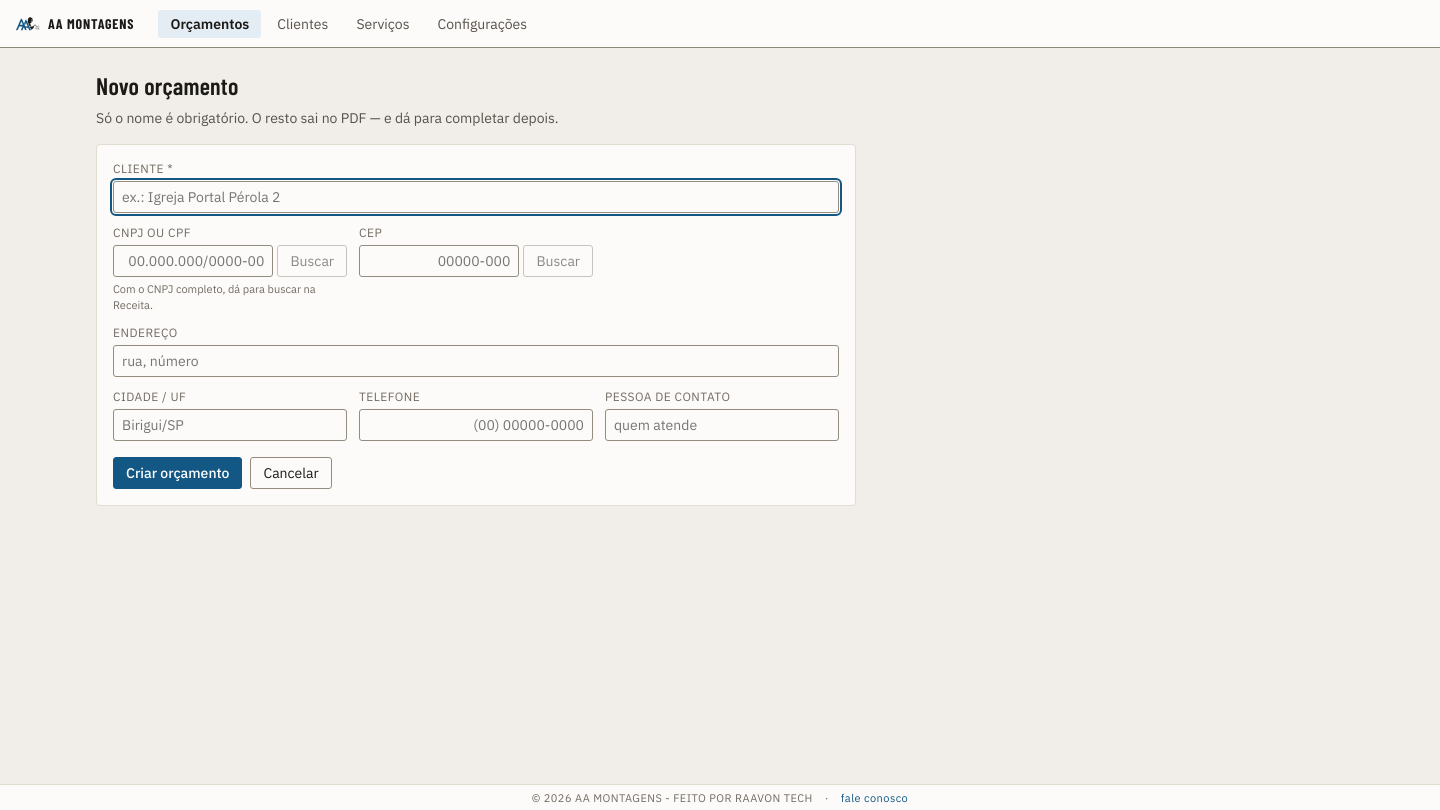
Test: máscara e validação › acusa dígito verificador errado
Check: the heading "Novo orçamento" is shown, box [96,71,238,100]
Type "Fulano" into the field labelled "Cliente *".
click(476, 197); type("Fulano")  # box [113,181,839,213]
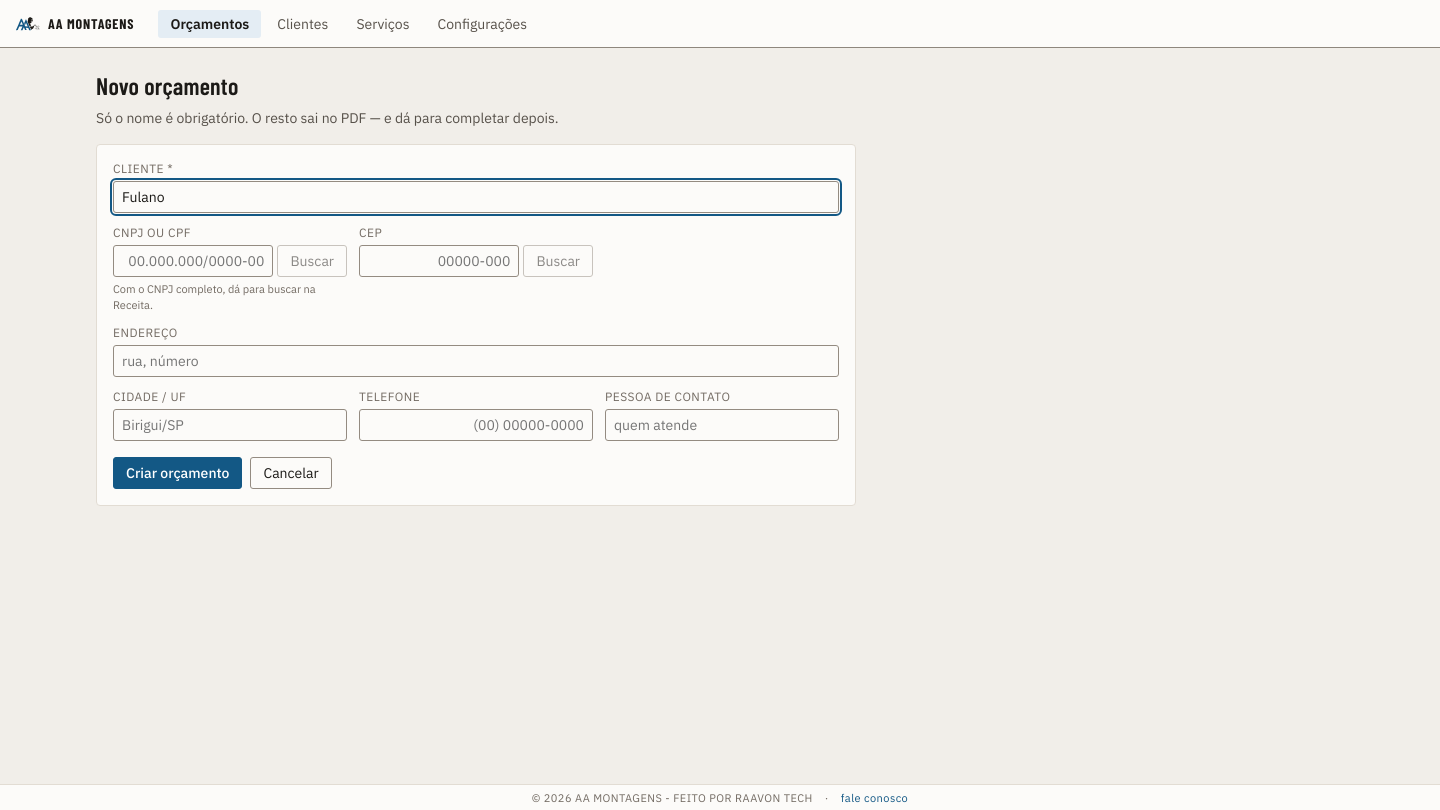
Type "11144477736" into the field labelled "CNPJ ou CPF".
click(193, 261); type("11144477736")  # box [113,245,273,277]
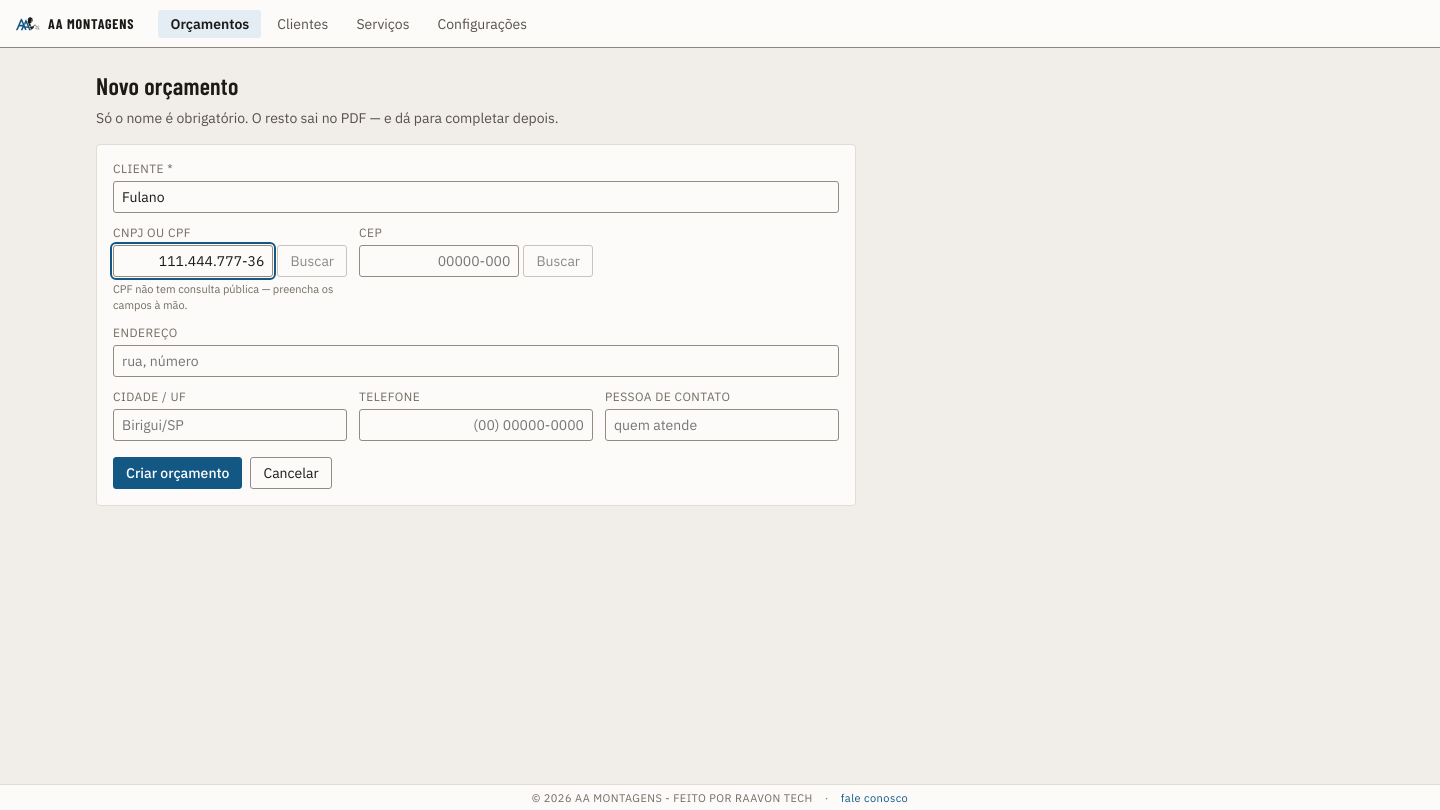
Click the button "Criar orçamento".
click(178, 473)  # box [113,457,242,489]
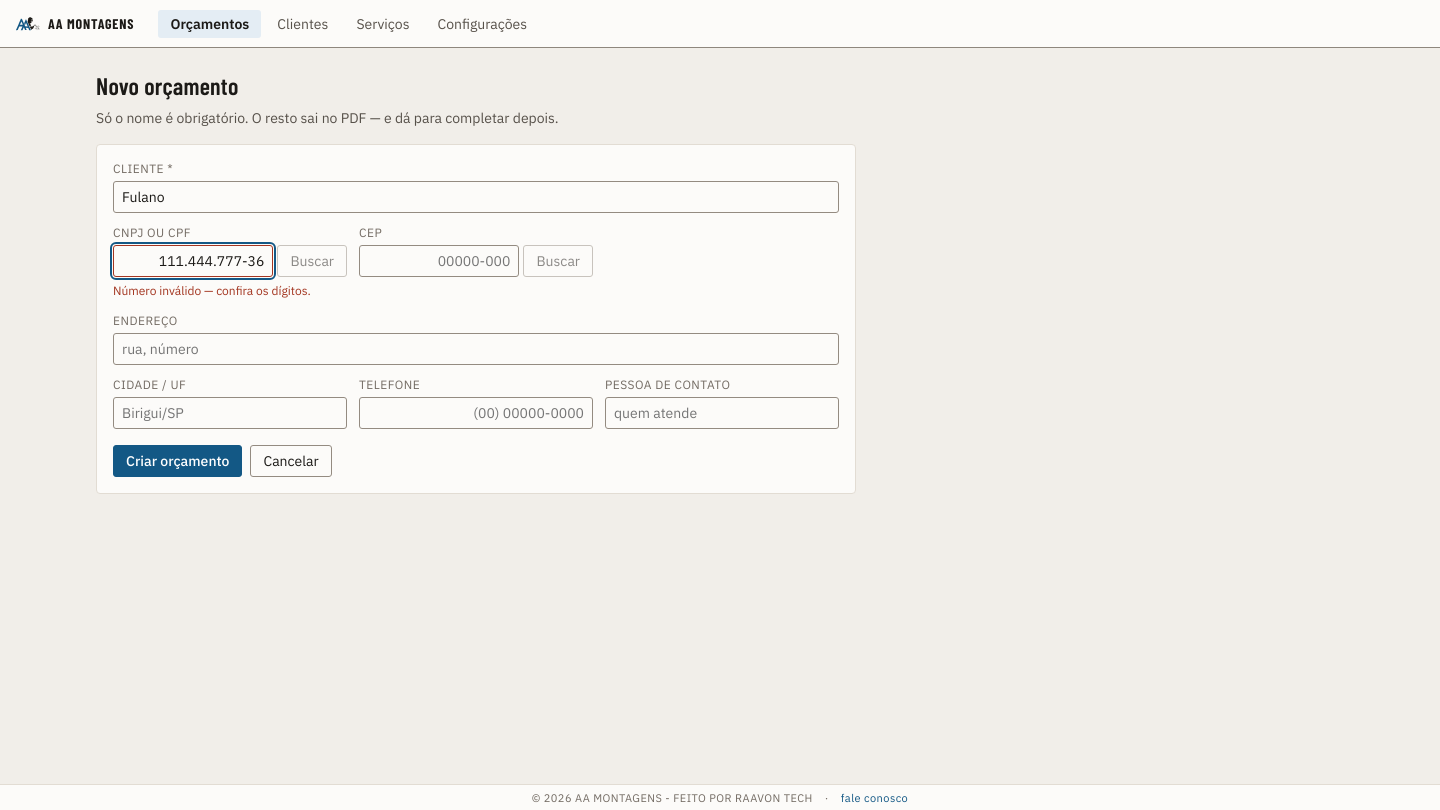
Check: the text "Número inválido — confira os dígitos." is shown, box [113,283,311,298]
